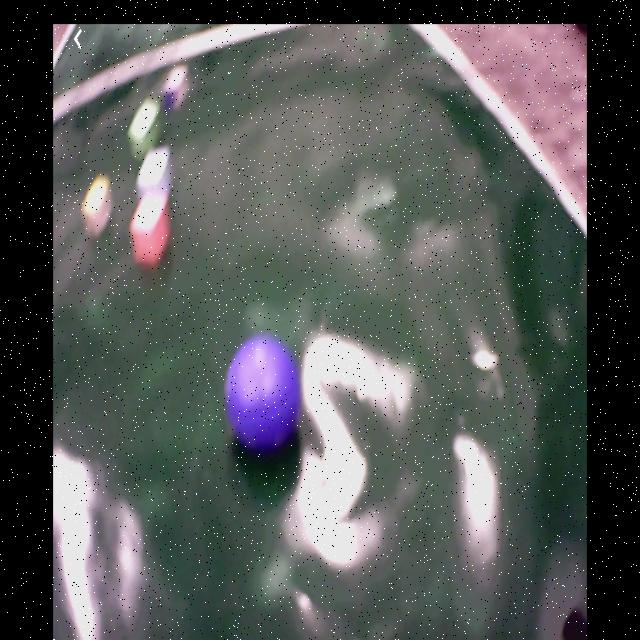ball: (227, 339, 300, 450)
